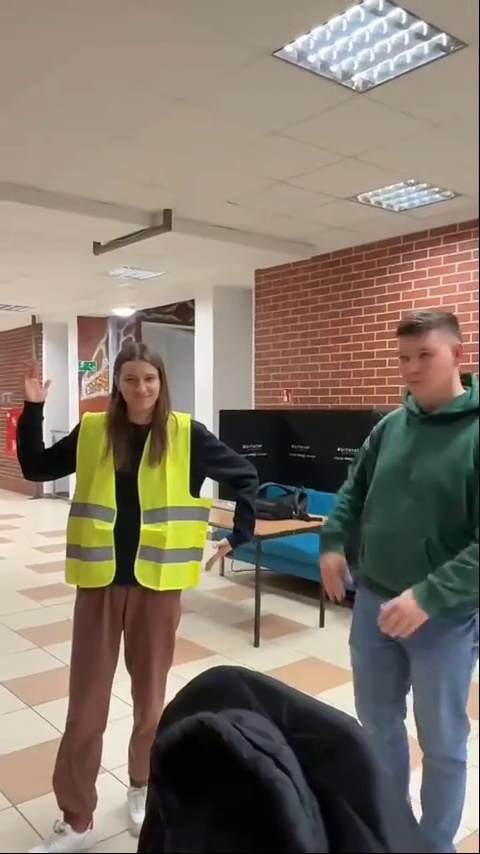no vest: (323, 302, 475, 848)
vest: (21, 349, 262, 846)
